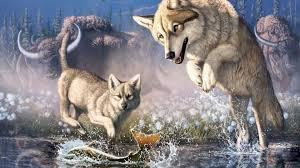Wolf: (133, 0, 282, 146), (58, 32, 140, 136)
